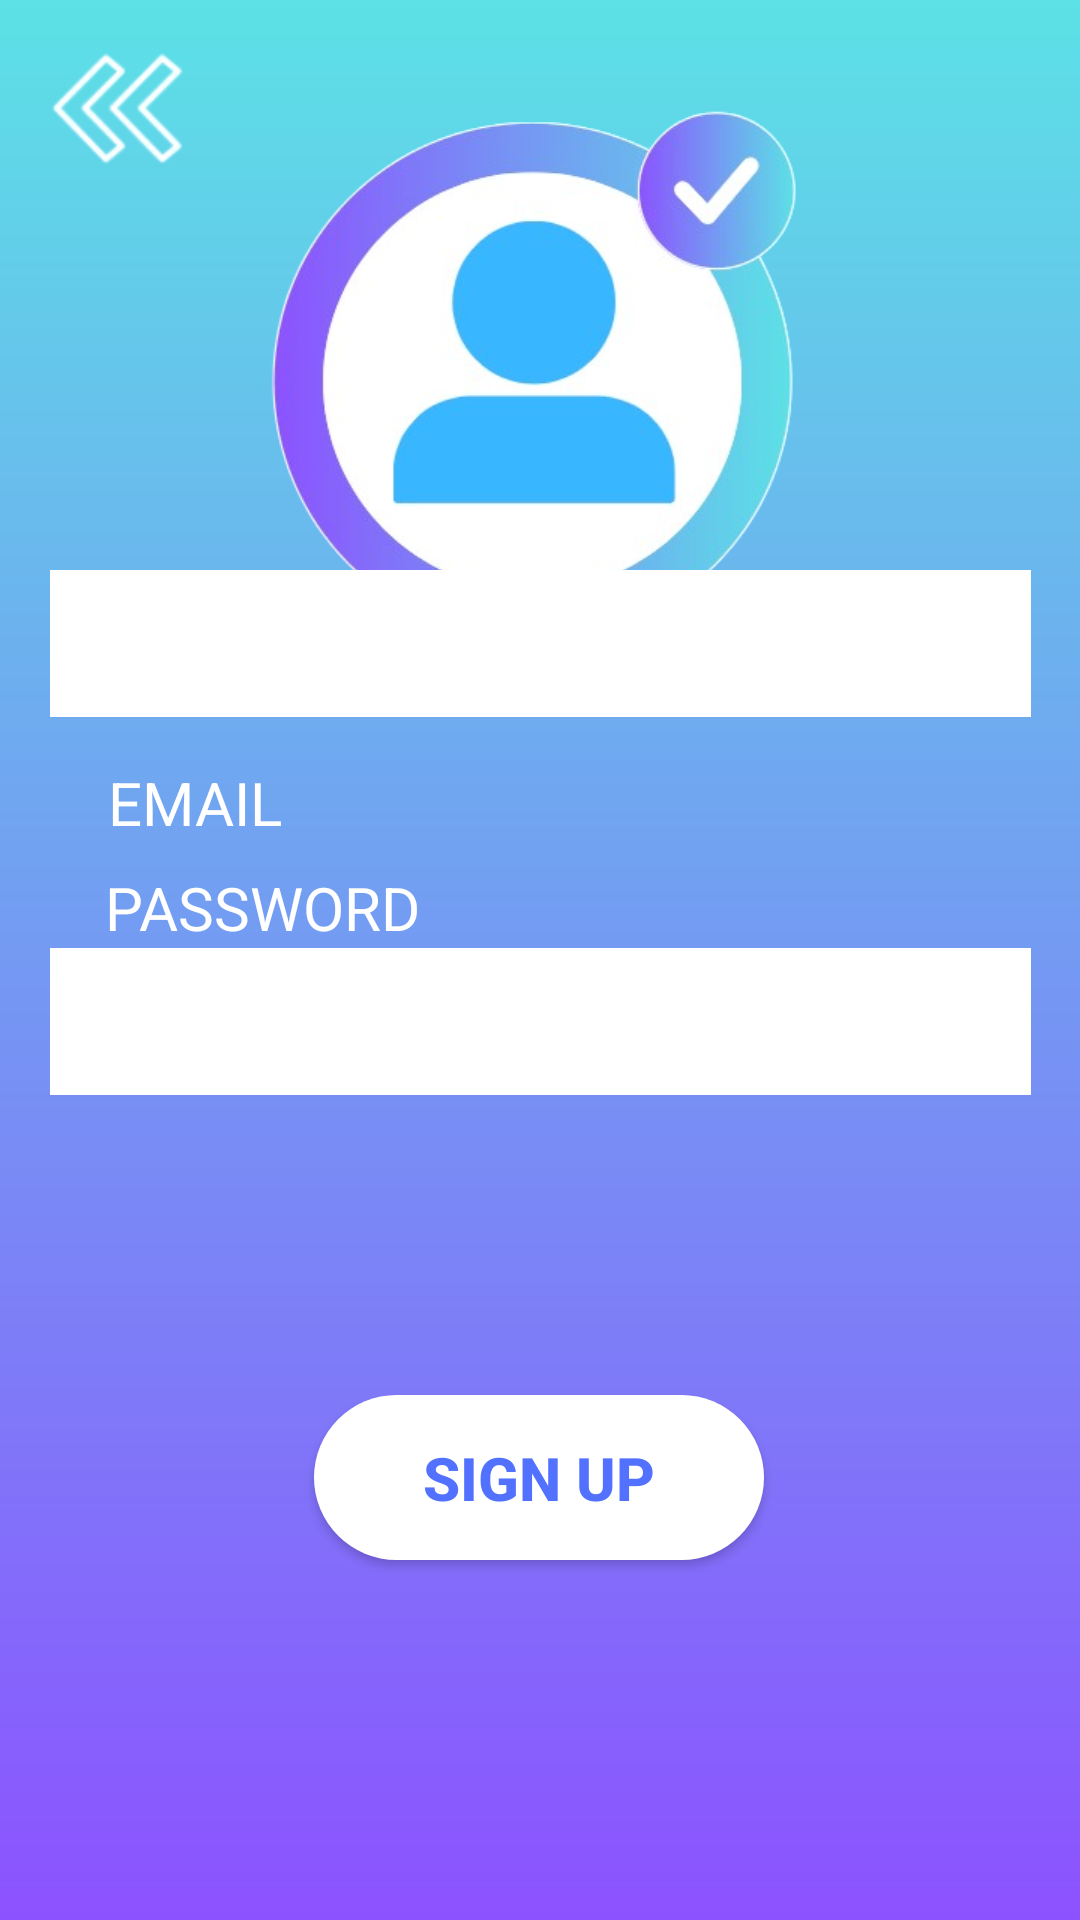

Icon click points for this 1080w x 1920h phone screenshot, format [x,y]:
atmtbckbtn: [118,108]
